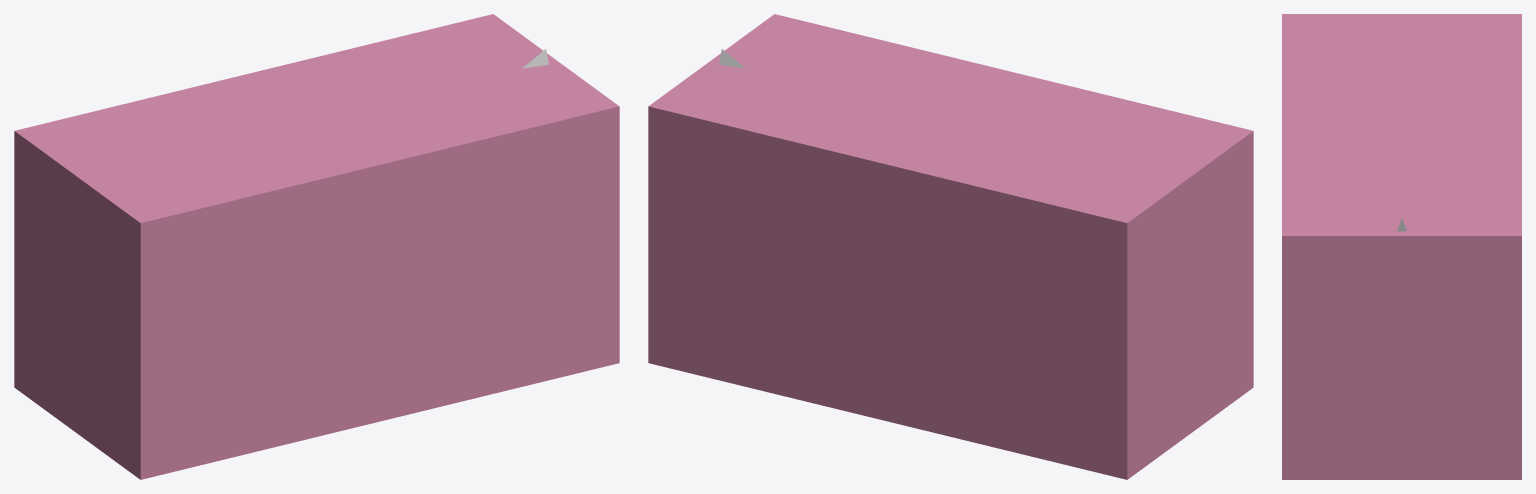
File: RoadBarrier-01b.dae
3 views of the same model, side by side, from view 1: azimuth 30°, elevation 25°; view 2: azimuth 150°, elevation 25°; view 3: azimuth 270°, elevation 25° (orthographic). The views are drawn at different scales.
Parts seen in each view (by area): view 1: Untitled; view 2: Untitled; view 3: Untitled.
Boxes of the visible parts, <box> form: Untitled: <box>14,14,619,479</box>; Untitled: <box>648,14,1253,479</box>; Untitled: <box>1282,14,1521,479</box>.
Size of the model in its own units: 2.05 by 0.9365 by 1.11.
